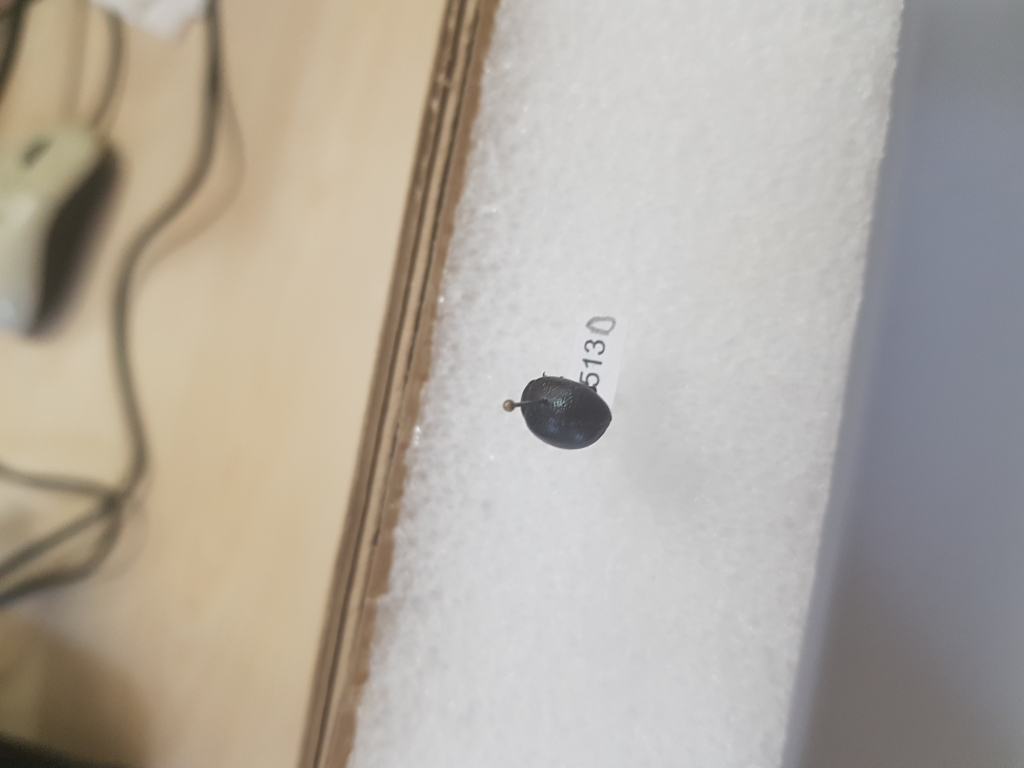Chrysolina_oricalcia: (509, 372, 619, 456)
